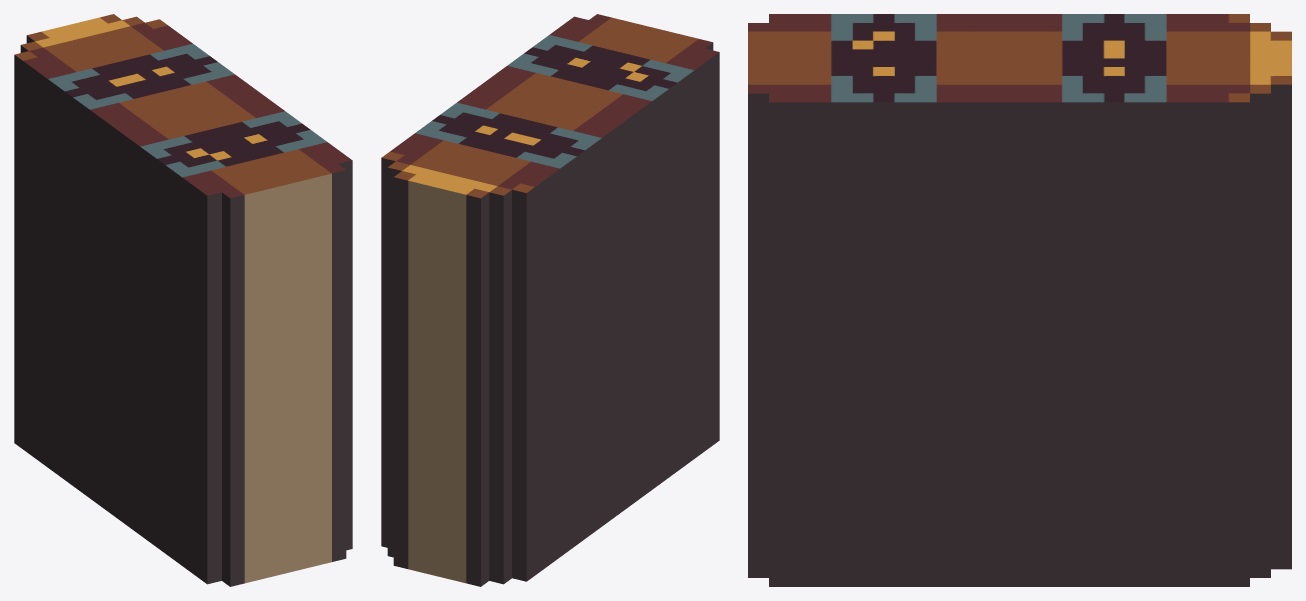
The model's file is book1.glb.
3 views of the same model, side by side, from view 1: azimuth 30°, elevation 25°; view 2: azimuth 150°, elevation 25°; view 3: azimuth 270°, elevation 25° (orthographic). The views are drawn at different scales.
Visible parts, largest first — view 1: book1-1-col; view 2: book1-1-col; view 3: book1-1-col.
Part boxes in pixels (x1,y1,x2,y2): book1-1-col: (14,14,352,586); book1-1-col: (381,14,719,586); book1-1-col: (748,14,1291,586).
Bounding box in the file's own units: 0.3125 × 0.7988 × 0.8125.
Materials: 3 (1 with a texture image).
